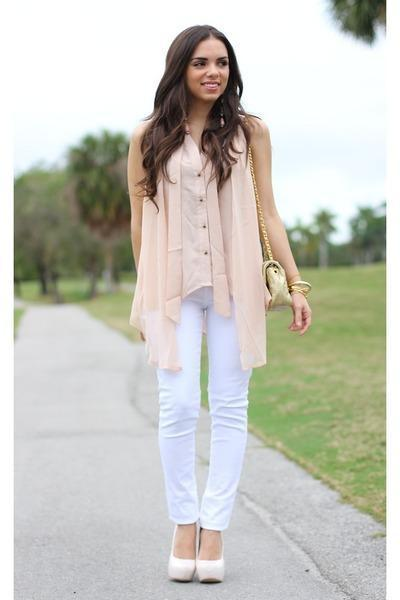bag: (264, 252, 310, 314)
pants: (145, 286, 251, 529)
shirt: (132, 138, 275, 369)
shoe: (168, 551, 223, 578)
